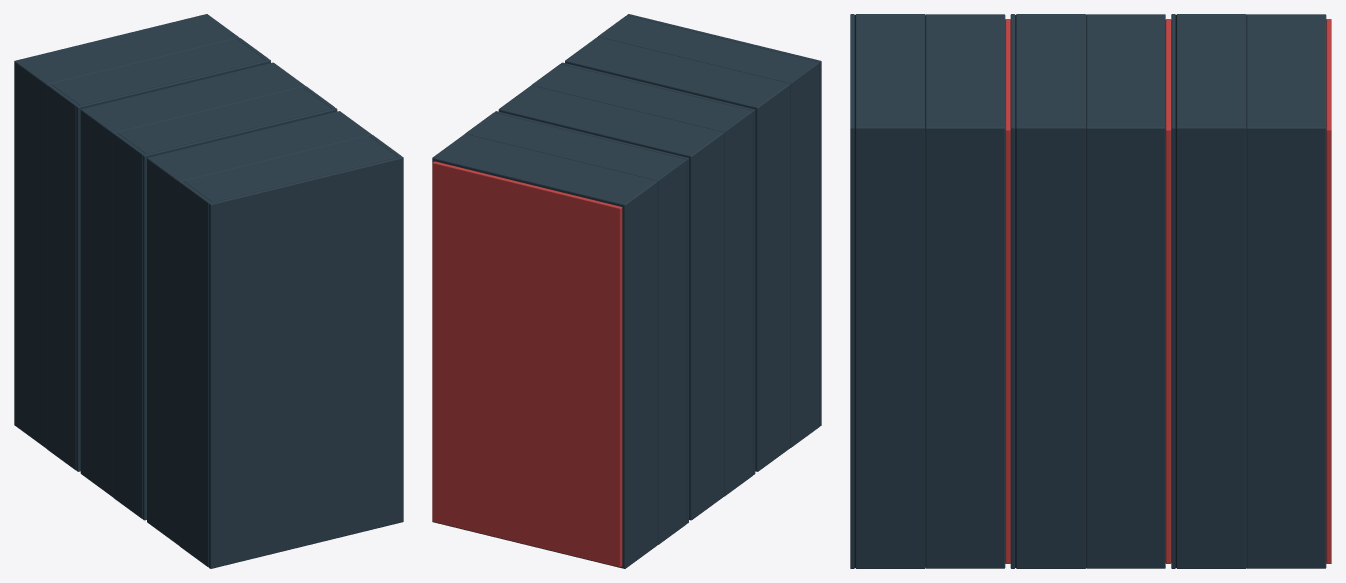
Rendered from inheco_incubator_shaker_stack.glb.
The picture shows the model from 3 angles, left to right: view 1: azimuth 30°, elevation 25°; view 2: azimuth 150°, elevation 25°; view 3: azimuth 270°, elevation 25°; orthographic projection. The views are drawn at different scales.
Visible parts, largest first — view 1: MP 1 front jamb; view 2: MP 1 front jamb, MP 1 address switches; view 3: MP 1 front jamb, MP 1 address switches, MP 1 insulated door.
Boxes of the visible parts, x1,y1,x2,y2 form: MP 1 front jamb: (14,14,403,568); MP 1 front jamb: (432,14,821,568); MP 1 address switches: (432,161,622,567); MP 1 front jamb: (850,14,1326,568); MP 1 address switches: (1005,19,1331,563); MP 1 insulated door: (854,15,1176,567).
Size of the model in its own units: 0.149 by 0.2685 by 0.2655.
